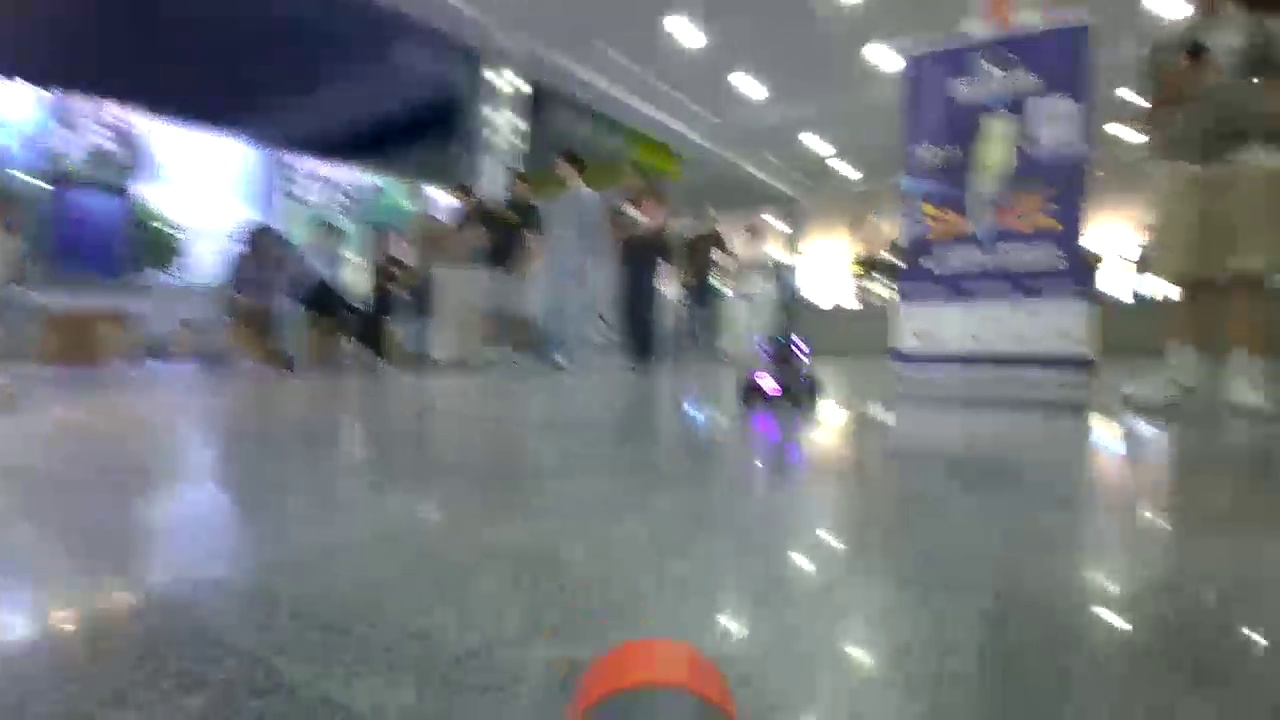robot: (738, 325, 818, 395)
